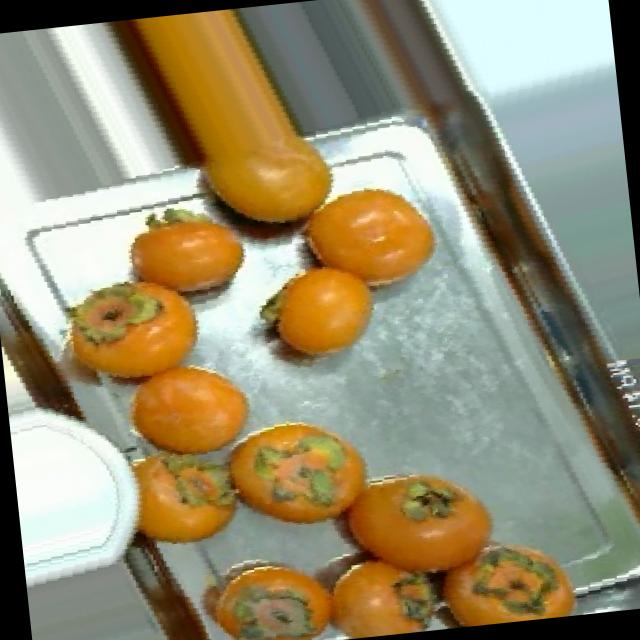Fruit: (206, 396, 394, 550), (38, 254, 220, 408), (272, 164, 460, 311), (236, 238, 400, 384), (105, 344, 272, 472), (102, 196, 266, 318)
